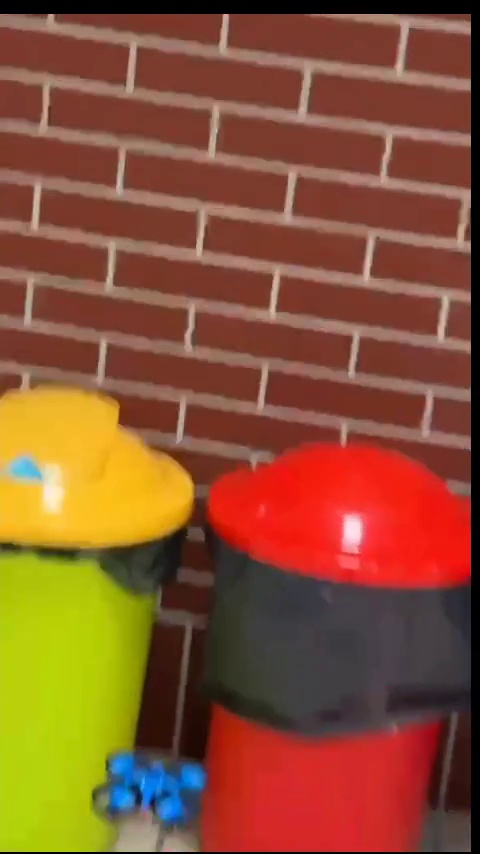drone: (95, 755, 210, 827)
